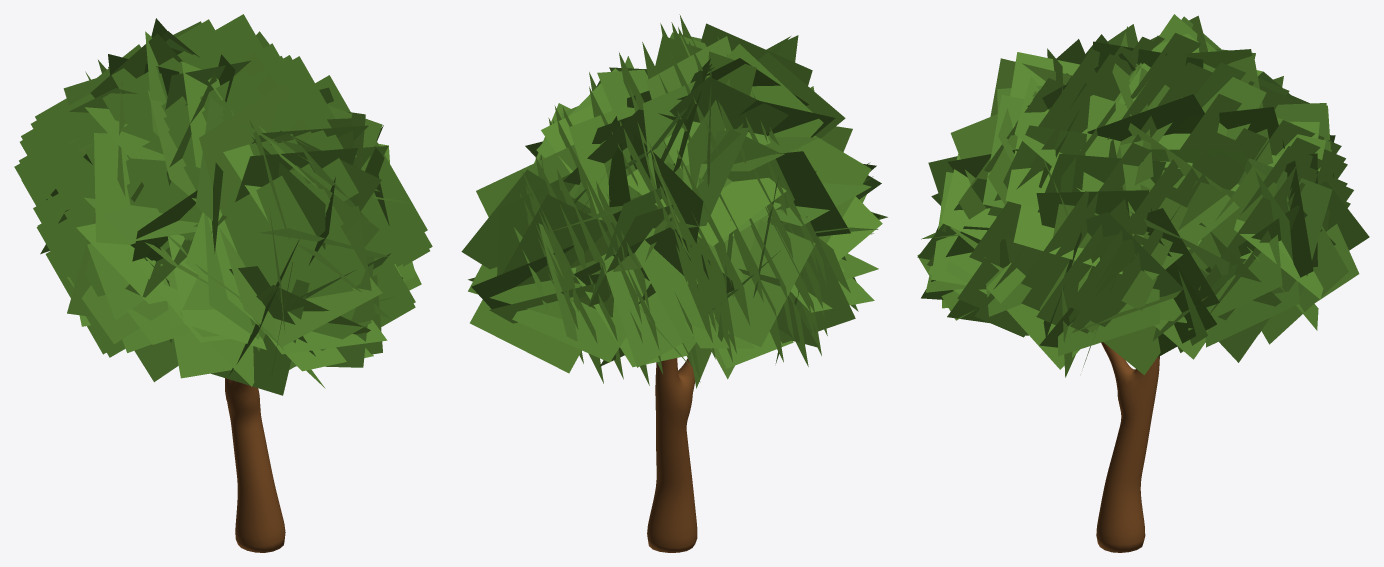
Rendered from TDS-Tree2withFoliage.fbx.
3 views of the same model, side by side, from view 1: azimuth 30°, elevation 25°; view 2: azimuth 150°, elevation 25°; view 3: azimuth 270°, elevation 25° (orthographic). The views are drawn at different scales.
Visible parts, largest first — view 1: Uncolored_Tree.003; view 2: Uncolored_Tree.003; view 3: Uncolored_Tree.003.
Boxes of the visible parts, <box> form: Uncolored_Tree.003: <box>14,14,432,552</box>; Uncolored_Tree.003: <box>461,14,887,552</box>; Uncolored_Tree.003: <box>917,14,1369,552</box>.
Size of the model in its own units: 394 by 596 by 490.
